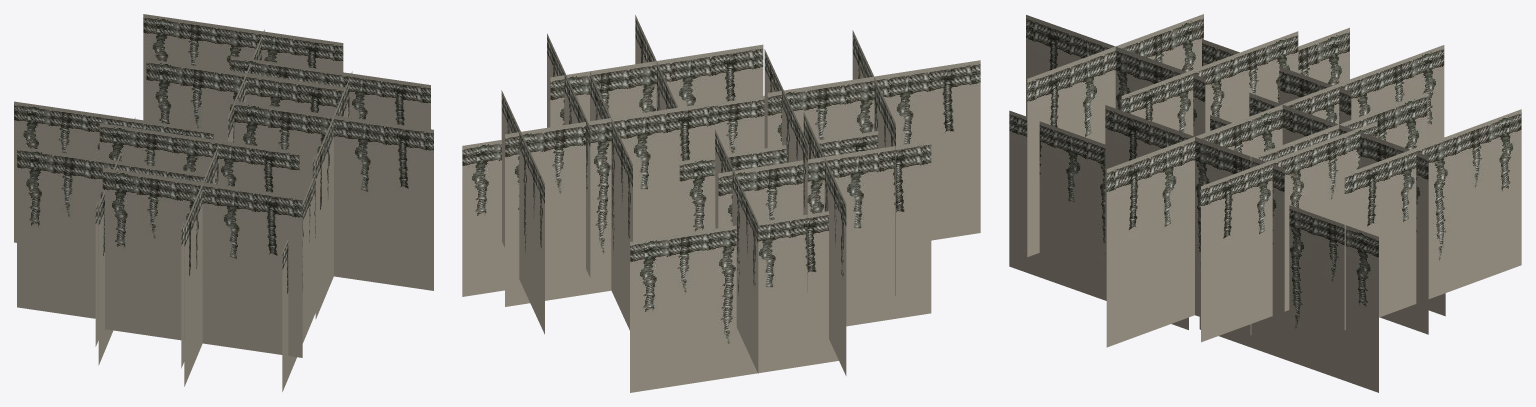
3 renders of one model, left to right at view 1: azimuth 30°, elevation 25°; view 2: azimuth 150°, elevation 25°; view 3: azimuth 270°, elevation 25°, orthographic. The views are drawn at different scales.
Parts seen in each view (by area): view 1: Object36; view 2: Object36; view 3: Object36.
Part boxes in pixels (x1=…): Object36: x1=14, y1=14, x2=433, y2=391; Object36: x1=462, y1=15, x2=980, y2=392; Object36: x1=1009, y1=14, x2=1521, y2=392.
Bounding box in the file's own units: 32.28 × 18.62 × 37.3.
